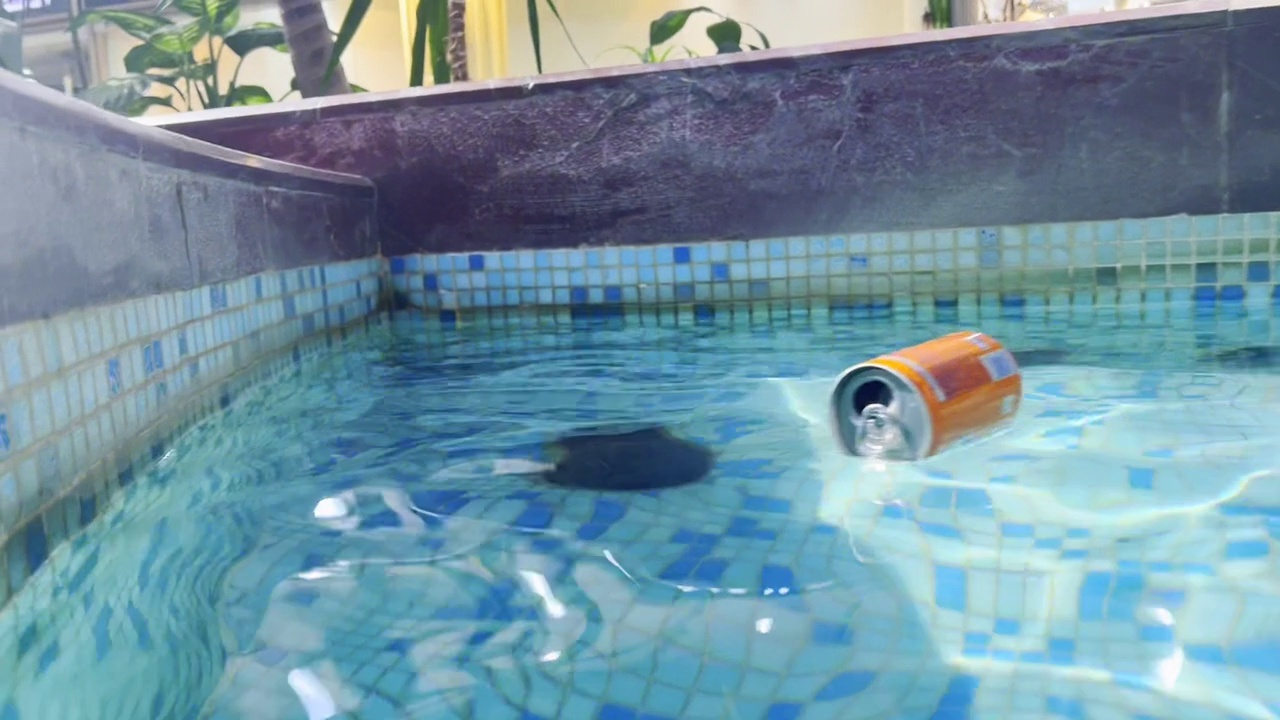debris: (829, 318, 1023, 465)
